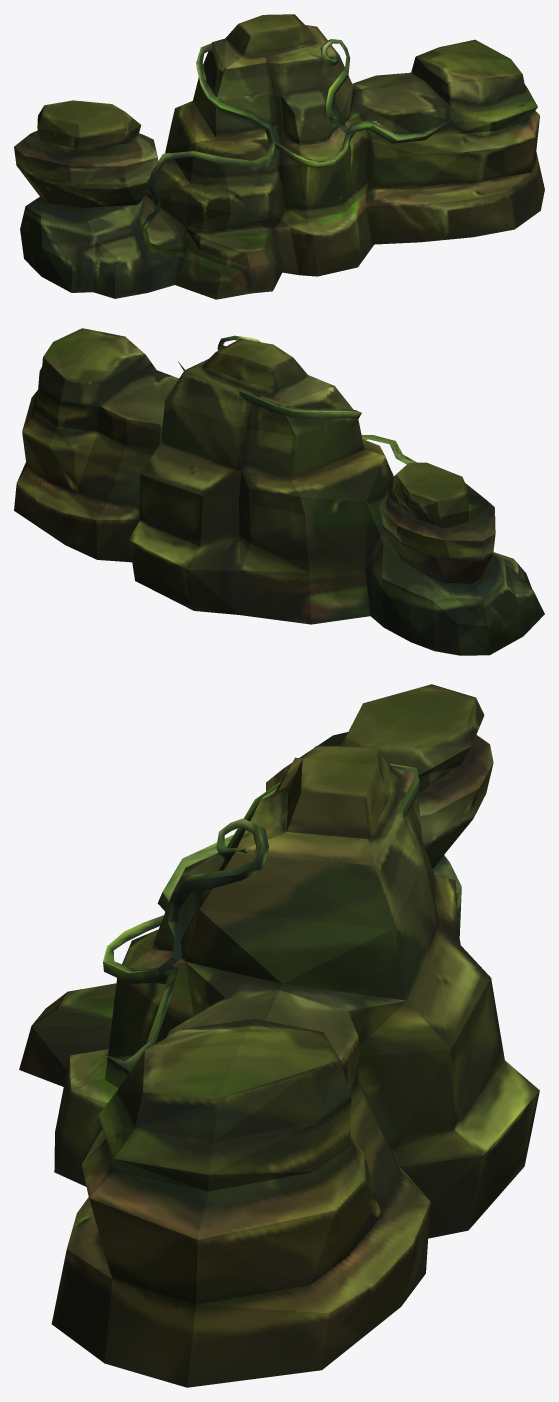
The model's file is Swamp_shitou03.FBX.
The picture shows the model from 3 angles, top to bottom: view 1: azimuth 30°, elevation 25°; view 2: azimuth 150°, elevation 25°; view 3: azimuth 270°, elevation 25°; orthographic projection. The views are drawn at different scales.
Parts seen in each view (by area): view 1: 对象005; view 2: 对象005; view 3: 对象005.
Boxes of the visible parts, <box> form: 对象005: <box>14,14,544,299</box>; 对象005: <box>14,328,544,655</box>; 对象005: <box>19,684,539,1387</box>.
Bounding box in the file's own units: 480 × 193 × 232.
